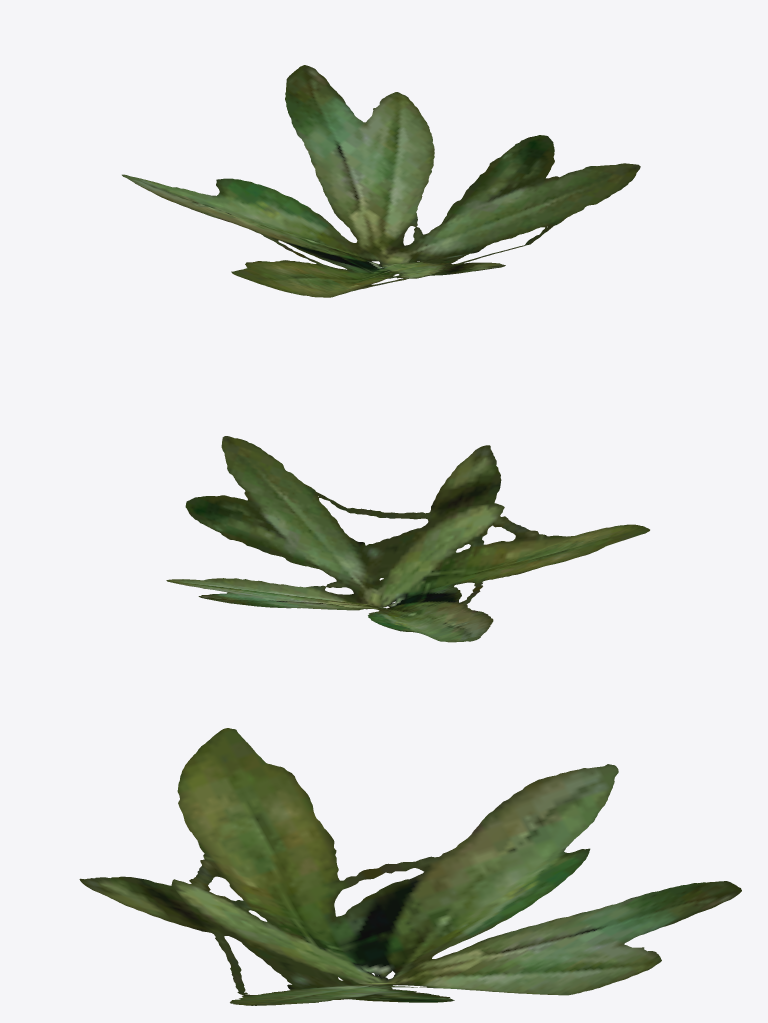
File: ptch_weed.fbx
3 views of the same model, one above another, from view 1: azimuth 30°, elevation 25°; view 2: azimuth 150°, elevation 25°; view 3: azimuth 270°, elevation 25° (orthographic). The views are drawn at different scales.
Visible parts, largest first — view 1: mesh_node; view 2: mesh_node; view 3: mesh_node.
Boxes of the visible parts, bbox=[...] form: mesh_node: bbox=[122, 65, 640, 297]; mesh_node: bbox=[166, 436, 649, 642]; mesh_node: bbox=[79, 728, 741, 1005].
Bounding box in the file's own units: 0.3418 × 0.0661 × 0.3418.
Materials: 1 (1 with a texture image).
